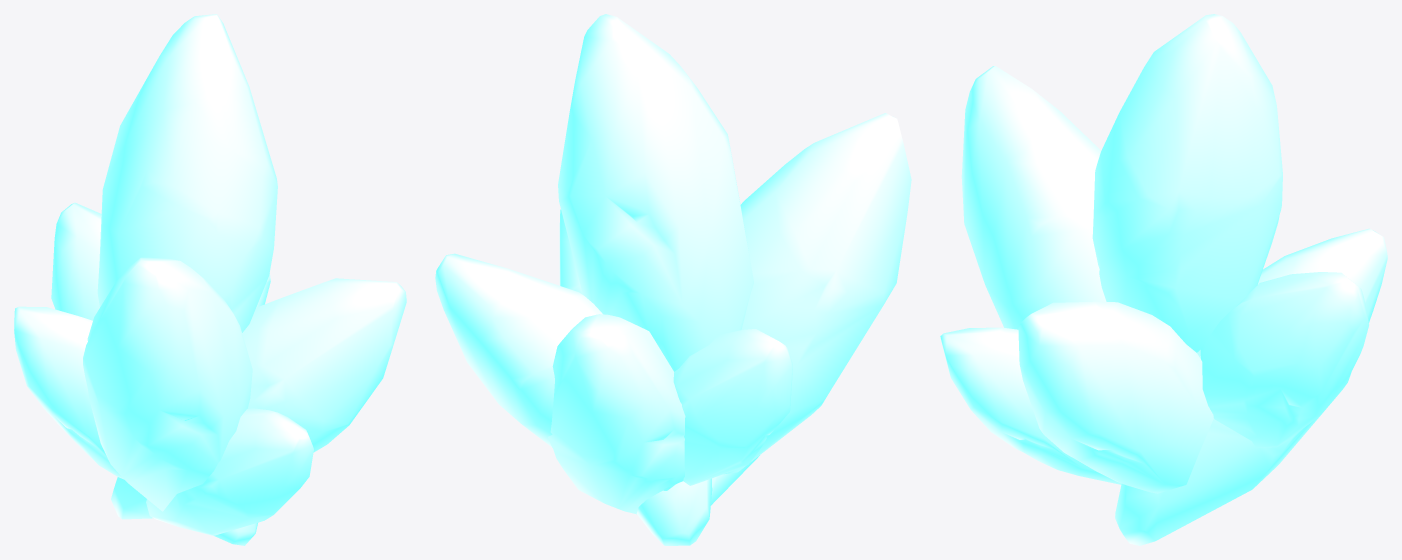
File: Decoration1.fbx
3 views of the same model, side by side, from view 1: azimuth 30°, elevation 25°; view 2: azimuth 150°, elevation 25°; view 3: azimuth 270°, elevation 25° (orthographic). The views are drawn at different scales.
Parts seen in each view (by area): view 1: BetterCrystal01, BetterCrystal01__1_, BetterCrystal01__4_, BetterCrystal01__6_, BetterCrystal01__3_, BetterCrystal01__2_; view 2: BetterCrystal01, BetterCrystal01__1_, BetterCrystal01__2_, BetterCrystal01__5_, BetterCrystal01__3_, BetterCrystal01__4_; view 3: BetterCrystal01, BetterCrystal01__4_, BetterCrystal01__1_, BetterCrystal01__5_, BetterCrystal01__2_, BetterCrystal01__6_.
Boxes of the visible parts, bbox=[...] form: BetterCrystal01: bbox=[97, 14, 277, 332]; BetterCrystal01__1_: bbox=[83, 257, 252, 511]; BetterCrystal01__4_: bbox=[111, 278, 406, 519]; BetterCrystal01__6_: bbox=[146, 408, 313, 535]; BetterCrystal01__3_: bbox=[14, 306, 123, 479]; BetterCrystal01__2_: bbox=[51, 202, 257, 545]; BetterCrystal01: bbox=[558, 14, 753, 371]; BetterCrystal01__1_: bbox=[724, 113, 911, 474]; BetterCrystal01__2_: bbox=[548, 314, 685, 514]; BetterCrystal01__5_: bbox=[435, 253, 675, 490]; BetterCrystal01__3_: bbox=[673, 329, 792, 485]; BetterCrystal01__4_: bbox=[559, 209, 712, 545]; BetterCrystal01: bbox=[1092, 14, 1282, 352]; BetterCrystal01__4_: bbox=[1018, 301, 1213, 493]; BetterCrystal01__1_: bbox=[961, 66, 1106, 329]; BetterCrystal01__5_: bbox=[1200, 272, 1368, 448]; BetterCrystal01__2_: bbox=[1115, 228, 1387, 545]; BetterCrystal01__6_: bbox=[940, 327, 1121, 484].
Size of the model in its own units: 303 by 475 by 364.
